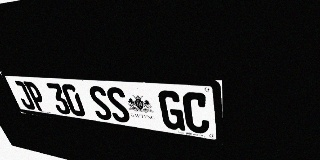0: (60, 84, 87, 117)
3: (46, 83, 72, 115)
C: (182, 92, 210, 135)
G: (157, 90, 185, 131)
J: (11, 80, 36, 110)
P: (23, 81, 49, 112)
S: (104, 87, 132, 124), (86, 85, 114, 121)
